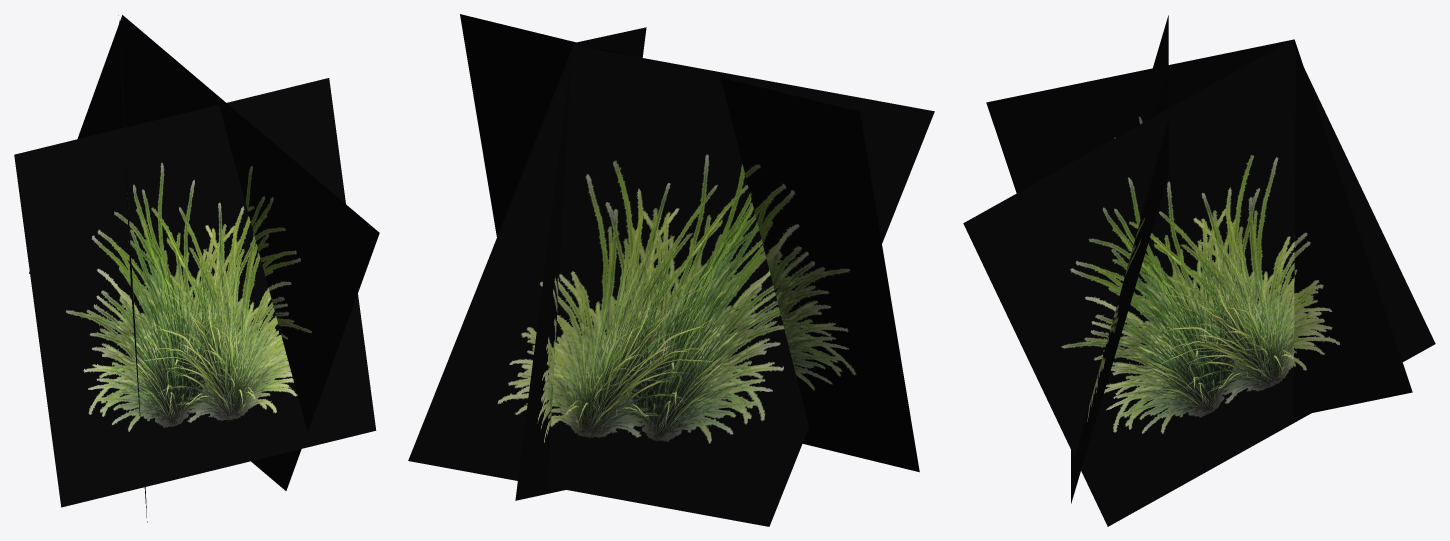
File: grasstriangle.fbx
3 renders of one model, left to right at view 1: azimuth 30°, elevation 25°; view 2: azimuth 150°, elevation 25°; view 3: azimuth 270°, elevation 25°, orthographic. The views are drawn at different scales.
Visible parts, largest first — view 1: Plane; view 2: Plane; view 3: Plane.
Boxes of the visible parts, x1,y1,x2,y2 form: Plane: (14,15,379,522); Plane: (408,14,934,526); Plane: (963,15,1435,526).
Bounding box in the file's own units: 200 × 261 × 250.
